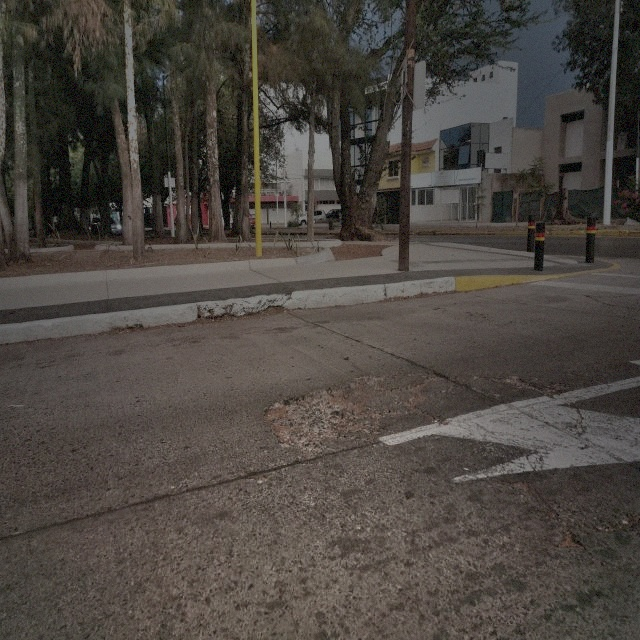pothole: (268, 373, 365, 458), (557, 524, 584, 550), (502, 370, 533, 388)
